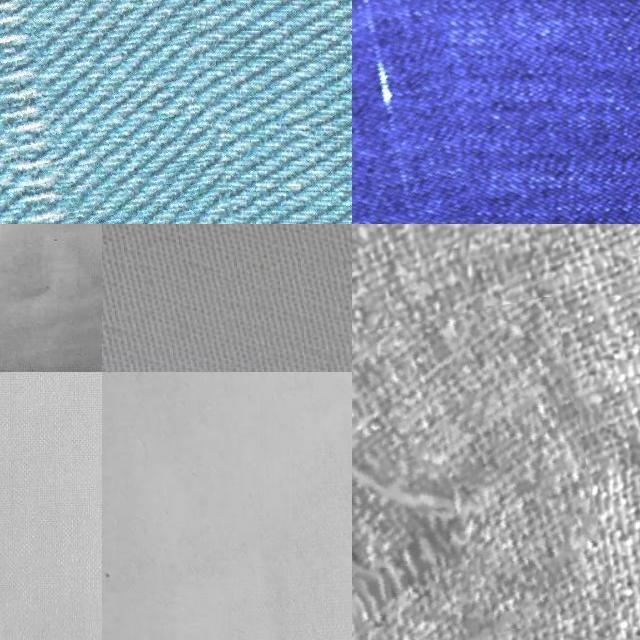stains: (352, 312, 600, 640), (352, 0, 462, 224)
